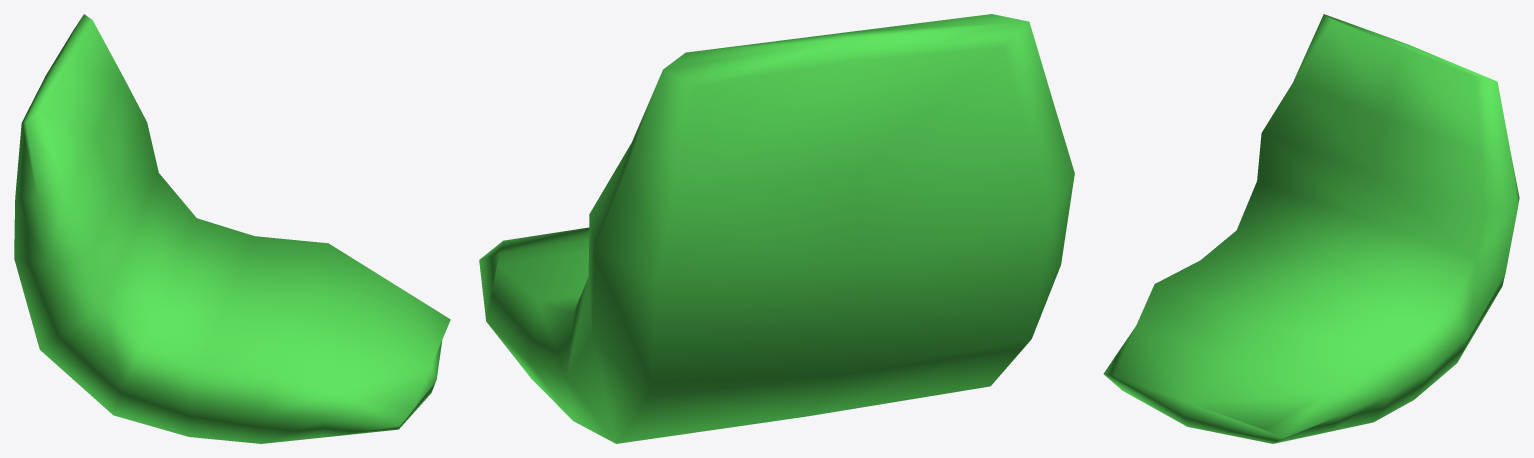
The model's file is sack2.fbx.
The picture shows the model from 3 angles, left to right: view 1: azimuth 30°, elevation 25°; view 2: azimuth 150°, elevation 25°; view 3: azimuth 270°, elevation 25°; orthographic projection. The views are drawn at different scales.
Visible parts, largest first — view 1: sack2; view 2: sack2; view 3: sack2.
Boxes of the visible parts, left/top/right/bottom form: sack2: left=14, top=14, right=450, bottom=443; sack2: left=479, top=14, right=1074, bottom=443; sack2: left=1103, top=14, right=1519, bottom=443.
Bounding box in the file's own units: 95.16 × 69.73 × 92.52.
